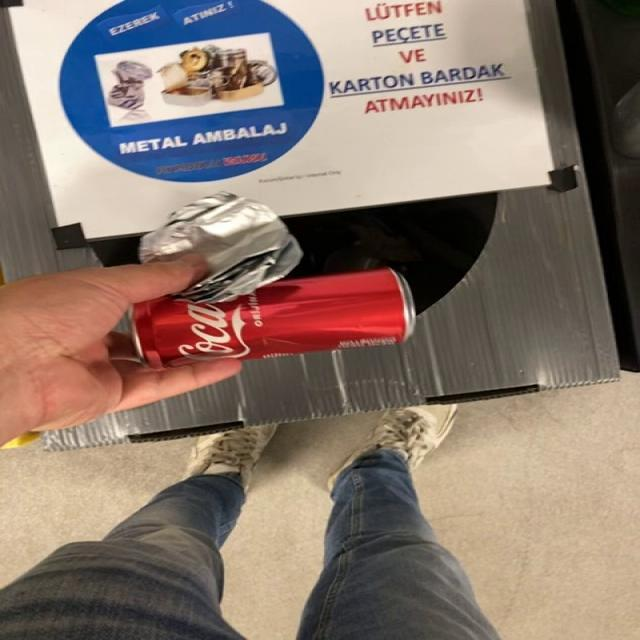Bin: (1, 0, 617, 450)
Metal: (132, 268, 416, 368)
